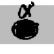not correct: (10, 0, 41, 42)
